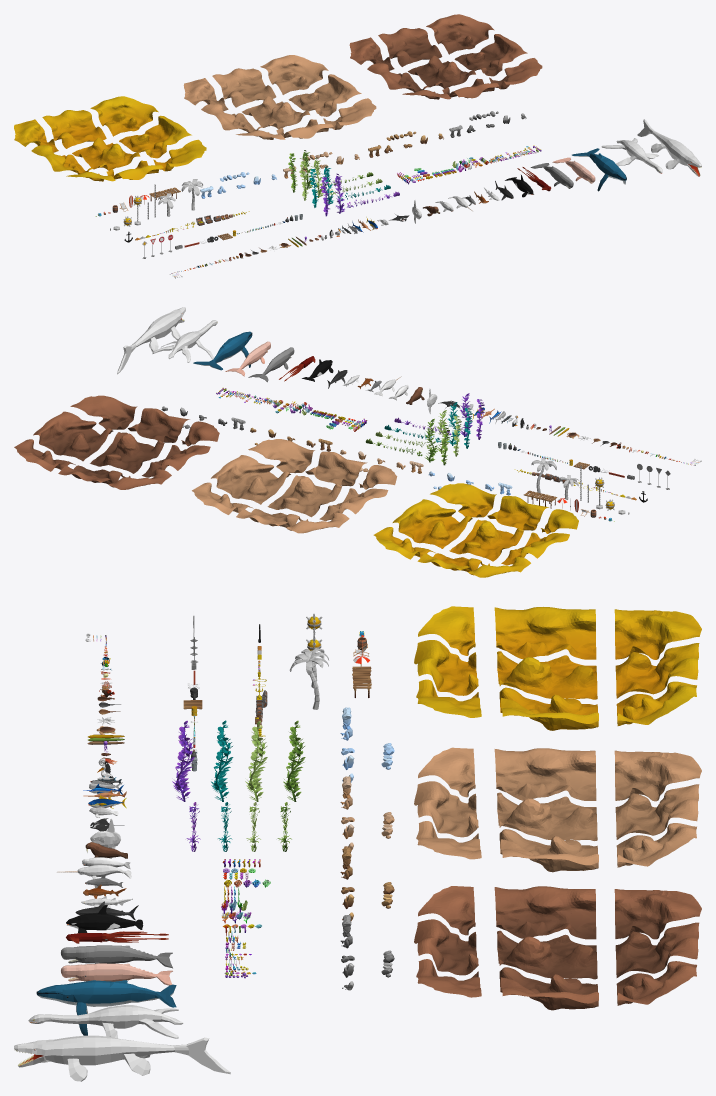
Rendered from MarineLife Mega Pack.fbx.
3 views of the same model, one above another, from view 1: azimuth 30°, elevation 25°; view 2: azimuth 150°, elevation 25°; view 3: azimuth 270°, elevation 25° (orthographic). The views are drawn at different scales.
Visible parts, largest first — view 1: DarkBrownTerrain7, BrownTerrain7, SandTerrain7, BrownTerrain8, DarkBrownTerrain8, SandTerrain8, BrownTerrain4, SandTerrain4, DarkBrownTerrain4, DarkBrownTerrain5, SandTerrain5, BrownTerrain5 (+15 smaller); view 2: DarkBrownTerrain4, BrownTerrain4, SandTerrain4, DarkBrownTerrain5, SandTerrain5, BrownTerrain5, DarkBrownTerrain1, SandTerrain1, BrownTerrain1, DarkBrownTerrain2, SandTerrain2, BrownTerrain2 (+20 smaller); view 3: Mosasaurus, SandTerrain6, DarkBrownTerrain6, BrownTerrain6, SandTerrain5, BrownTerrain5, DarkBrownTerrain5, SandTerrain9, BrownTerrain9, DarkBrownTerrain9, Whale, BrownTerrain8 (+22 smaller).
Boxes of the visible parts, left/top/right/bottom form: DarkBrownTerrain7: left=426, top=14, right=494, bottom=54; BrownTerrain7: left=260, top=55, right=328, bottom=94; SandTerrain7: left=90, top=96, right=158, bottom=136; BrownTerrain8: left=212, top=68, right=276, bottom=107; DarkBrownTerrain8: left=378, top=28, right=442, bottom=66; SandTerrain8: left=42, top=110, right=106, bottom=148; BrownTerrain4: left=288, top=74, right=361, bottom=116; SandTerrain4: left=119, top=115, right=191, bottom=158; DarkBrownTerrain4: left=454, top=34, right=527, bottom=76; DarkBrownTerrain5: left=408, top=55, right=475, bottom=88; SandTerrain5: left=72, top=137, right=140, bottom=170; BrownTerrain5: left=242, top=96, right=309, bottom=129; DarkBrownTerrain4: left=33, top=411, right=113, bottom=461; BrownTerrain4: left=211, top=455, right=290, bottom=504; SandTerrain4: left=392, top=499, right=472, bottom=548; DarkBrownTerrain5: left=90, top=432, right=164, bottom=473; SandTerrain5: left=449, top=519, right=523, bottom=561; BrownTerrain5: left=267, top=475, right=342, bottom=517; DarkBrownTerrain1: left=70, top=395, right=137, bottom=429; SandTerrain1: left=430, top=483, right=496, bottom=517; BrownTerrain1: left=248, top=439, right=314, bottom=473; DarkBrownTerrain2: left=128, top=408, right=189, bottom=442; SandTerrain2: left=487, top=496, right=548, bottom=530; BrownTerrain2: left=305, top=451, right=367, bottom=486; Mosasaurus: left=14, top=1035, right=230, bottom=1081; SandTerrain6: left=494, top=607, right=596, bottom=659; DarkBrownTerrain6: left=494, top=886, right=596, bottom=939; BrownTerrain6: left=494, top=748, right=596, bottom=800; SandTerrain5: left=497, top=651, right=597, bottom=699; BrownTerrain5: left=497, top=792, right=597, bottom=840; DarkBrownTerrain5: left=497, top=930, right=597, bottom=979; SandTerrain9: left=614, top=609, right=701, bottom=659; BrownTerrain9: left=614, top=750, right=701, bottom=801; DarkBrownTerrain9: left=614, top=889, right=701, bottom=939; Whale: left=36, top=980, right=176, bottom=1035; BrownTerrain8: left=615, top=784, right=699, bottom=839.
Size of the model in its own units: 16389 by 1612 by 10975.
